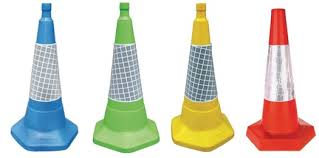cones: (92, 3, 164, 154), (10, 3, 82, 151), (248, 9, 317, 153), (170, 5, 235, 150)
